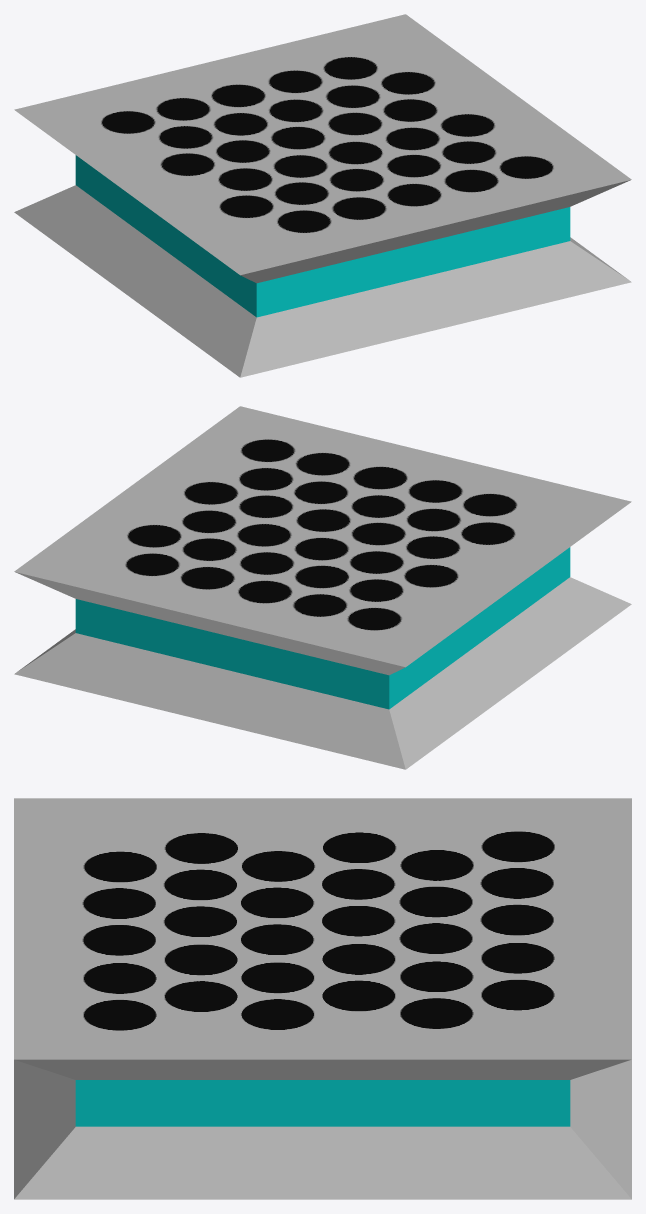
File: SpikePlatform.fbx
The picture shows the model from 3 angles, top to bottom: view 1: azimuth 30°, elevation 25°; view 2: azimuth 150°, elevation 25°; view 3: azimuth 270°, elevation 25°; orthographic projection. The views are drawn at different scales.
Visible parts, largest first — view 1: Cube; view 2: Cube; view 3: Cube.
Boxes of the visible parts, x1,y1,x2,y2 form: Cube: (14, 14, 631, 377); Cube: (14, 406, 631, 769); Cube: (14, 798, 631, 1199).
Bounding box in the file's own units: 200 × 50 × 200.
